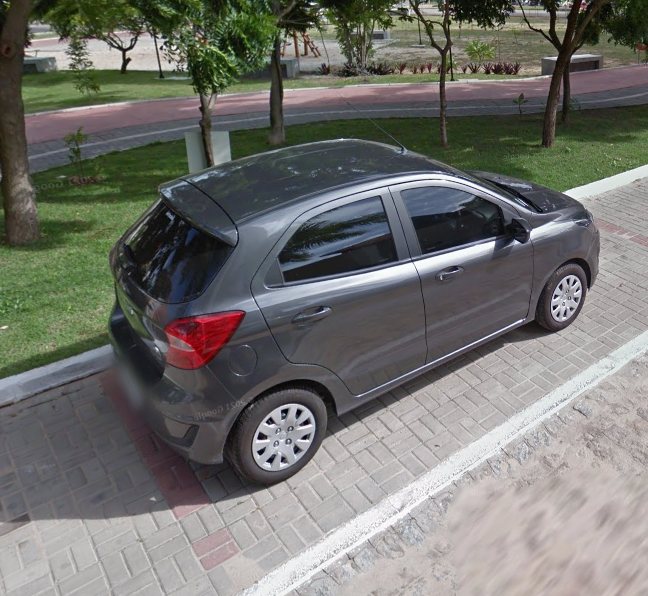car: (102, 96, 607, 491)
